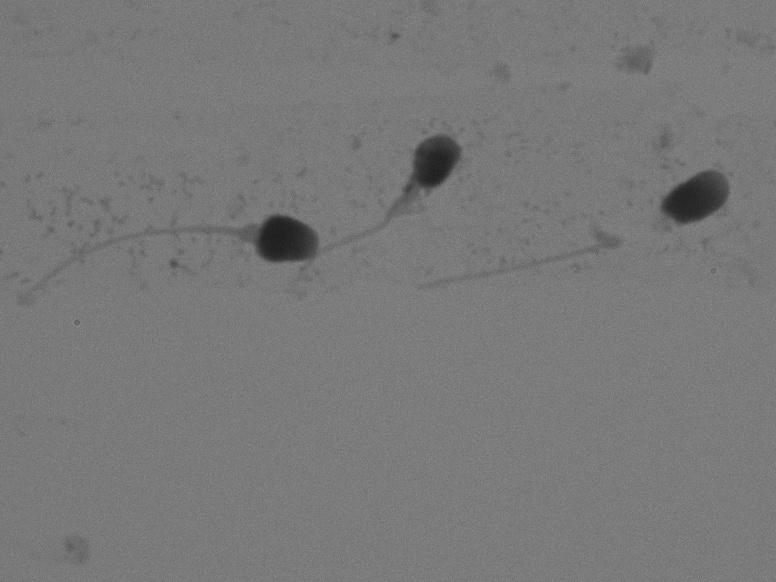Abnormal: (385, 148, 755, 315), (8, 177, 326, 334), (329, 118, 476, 302)
